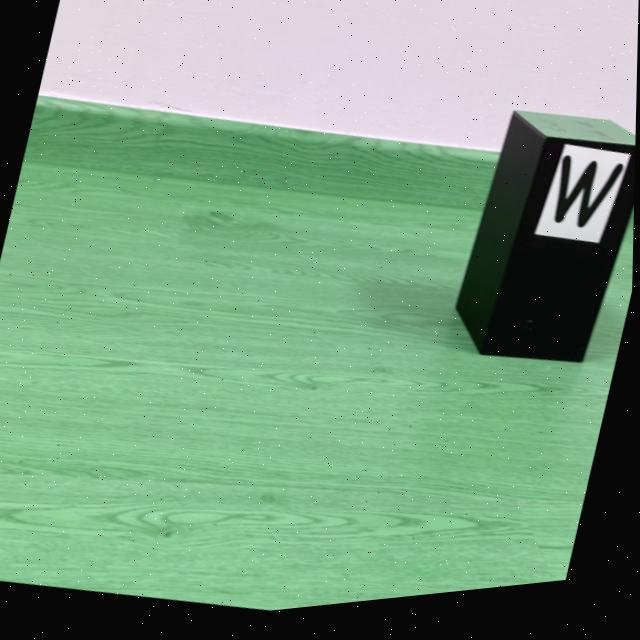W: (555, 168, 624, 240)
